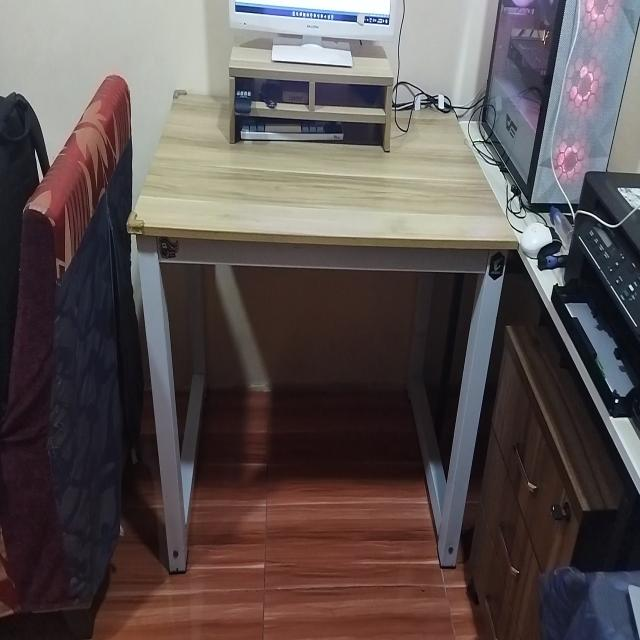table: (138, 82, 506, 581)
